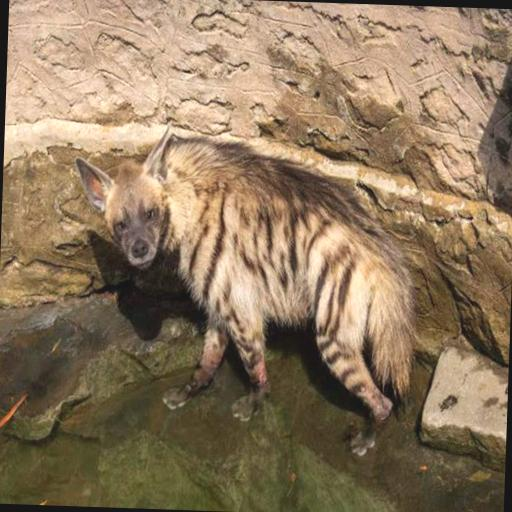hyenas: (54, 51, 512, 461)
